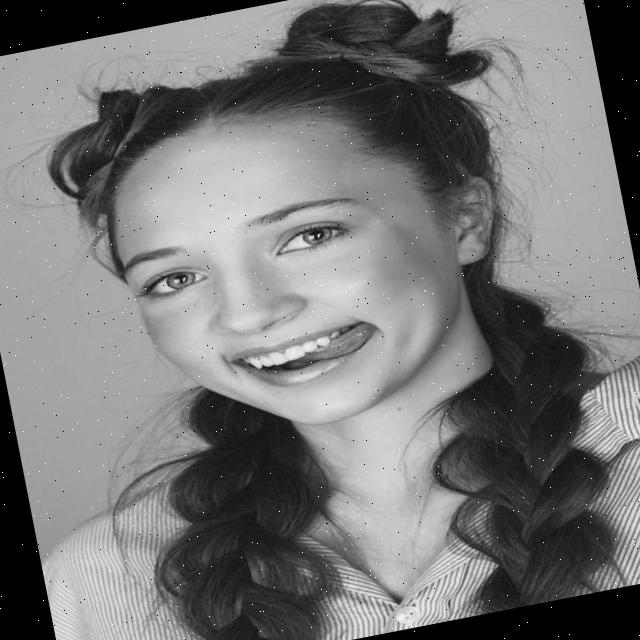Happiness: (88, 71, 491, 464)
